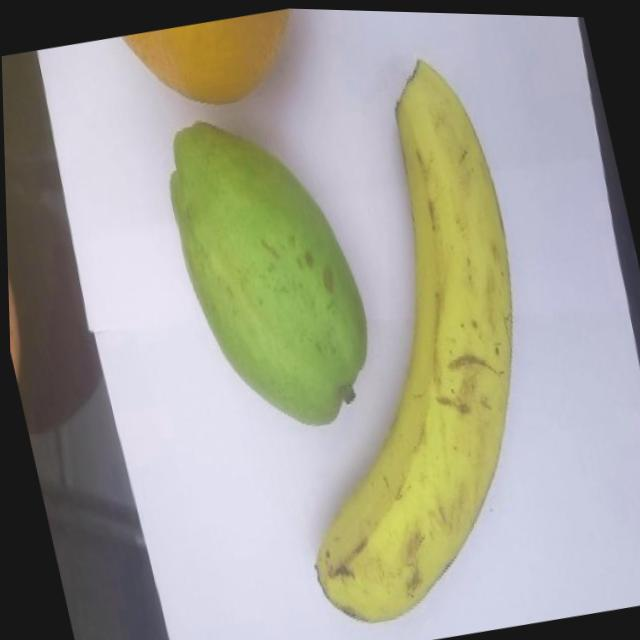Apple: (5, 214, 39, 386)
Banana: (200, 40, 583, 640)
Orange: (122, 3, 314, 122)
